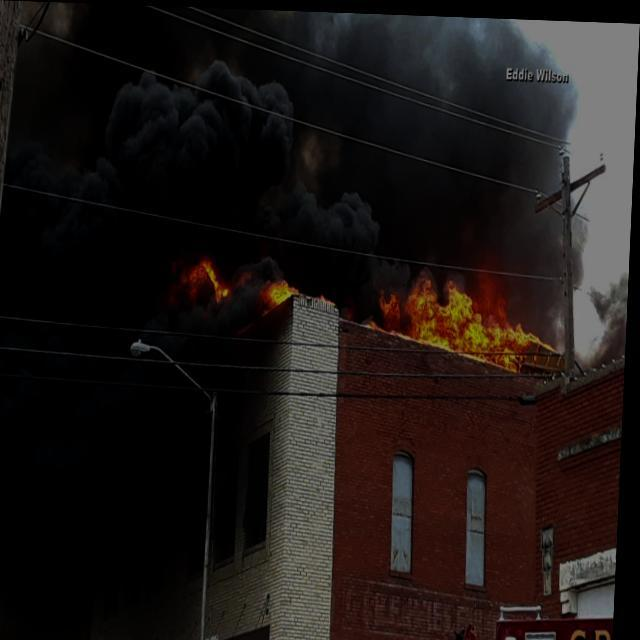Fire: (157, 206, 567, 387)
